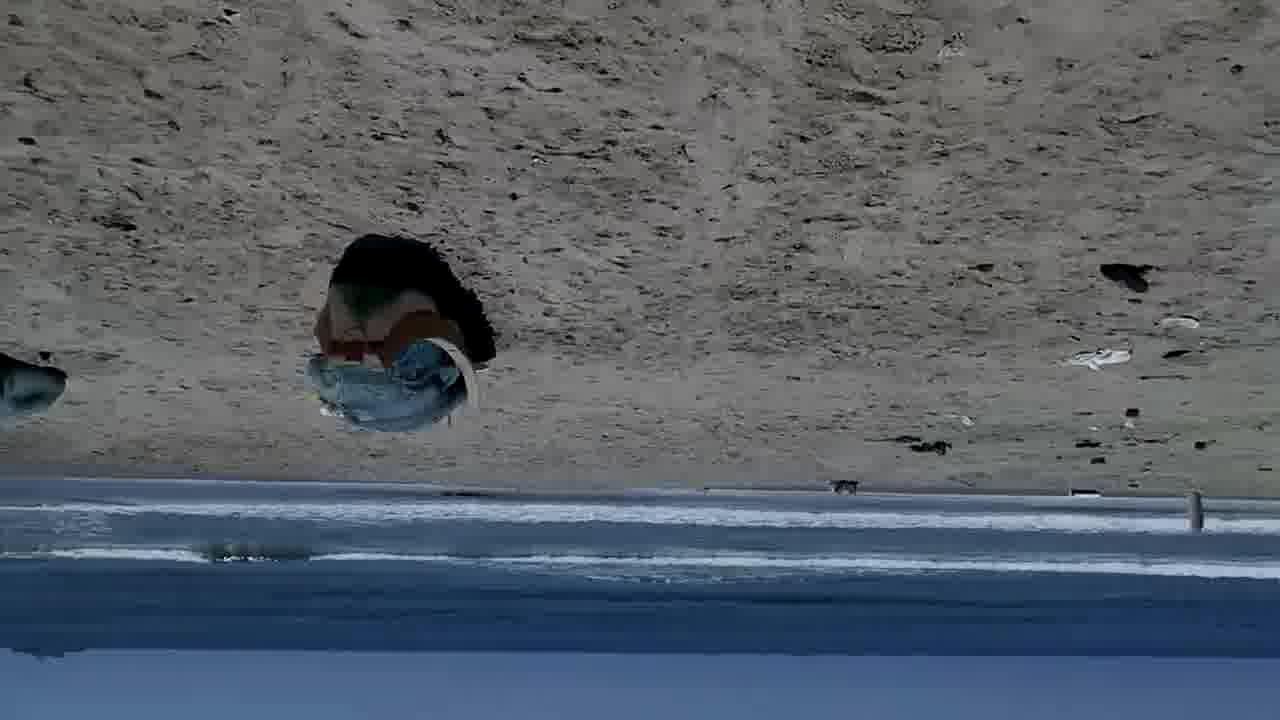large collection of objects: (290, 253, 489, 430), (1, 354, 95, 416)
obj: (857, 434, 951, 459), (1058, 344, 1136, 372), (1096, 257, 1156, 293), (1143, 314, 1213, 332), (1120, 408, 1142, 435)
sand/background: (1, 476, 1279, 719)
